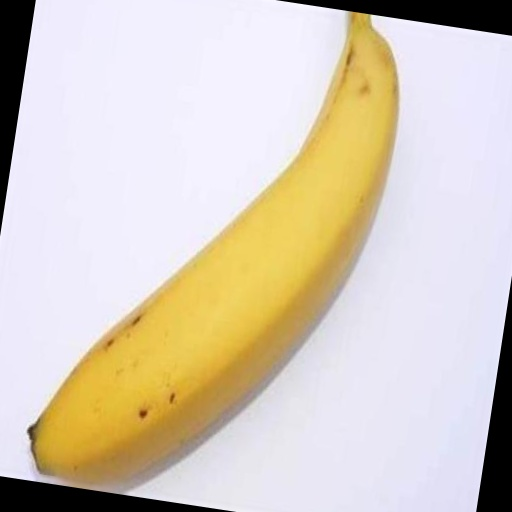fruit: (193, 0, 505, 52)
